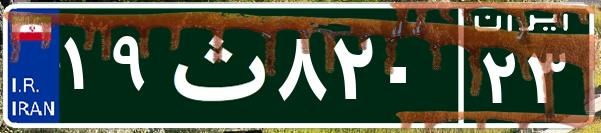0: (385, 28, 445, 110)
1: (57, 26, 110, 107)
2: (330, 28, 385, 110), (475, 38, 525, 113)
3: (525, 38, 570, 115)
8: (273, 28, 330, 110)
9: (110, 28, 158, 105)
ث: (158, 15, 273, 115)
